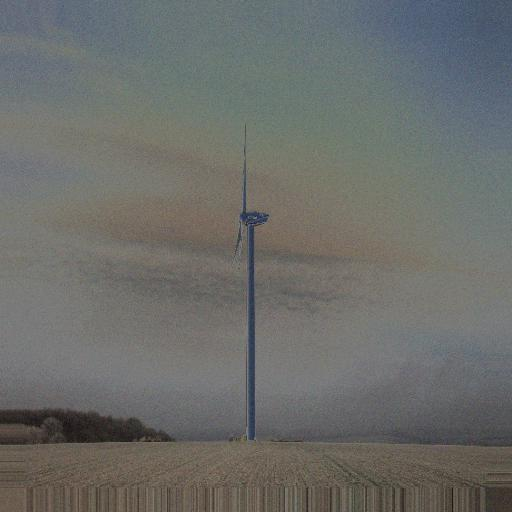wind turbine: (229, 121, 272, 438)
